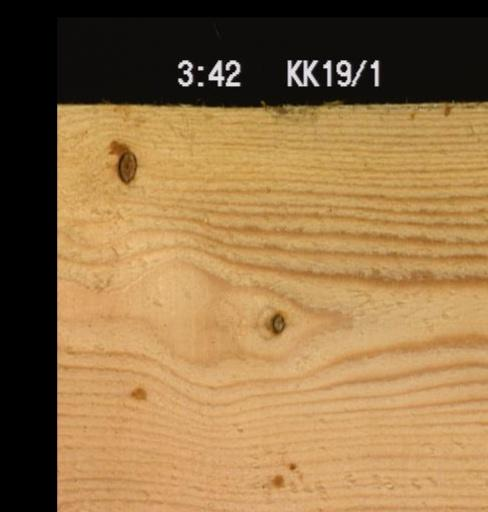dry_knot: (115, 149, 137, 183), (268, 310, 286, 334)
